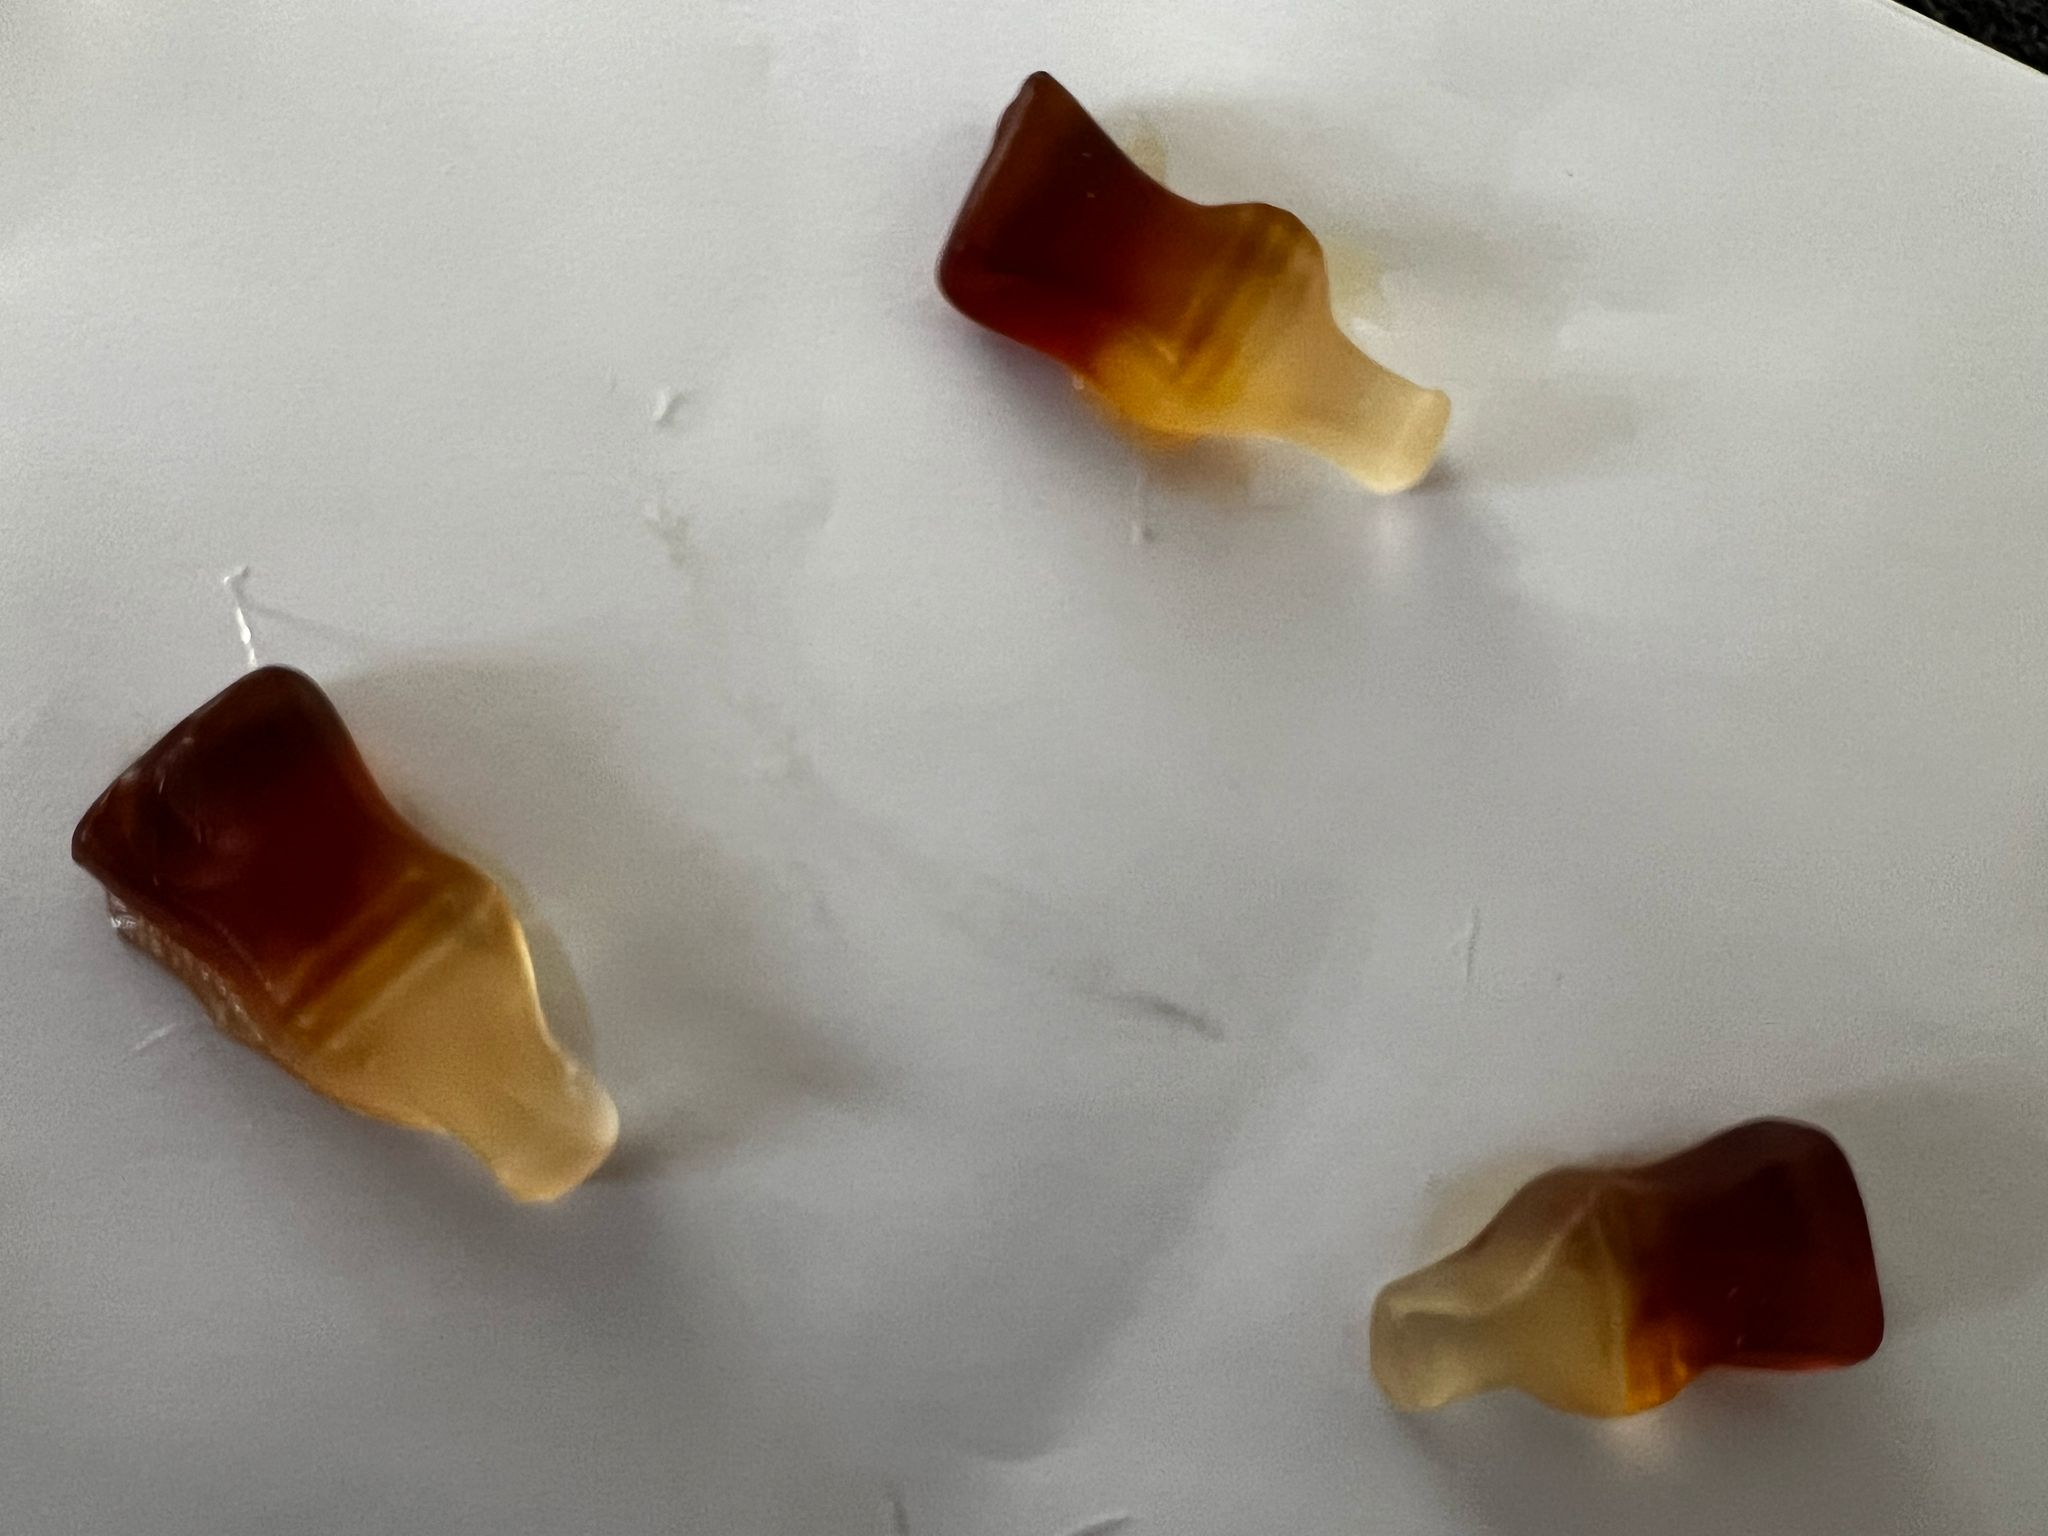cola: (56, 657, 634, 1221), (929, 55, 1467, 503), (1356, 1108, 1896, 1434)
